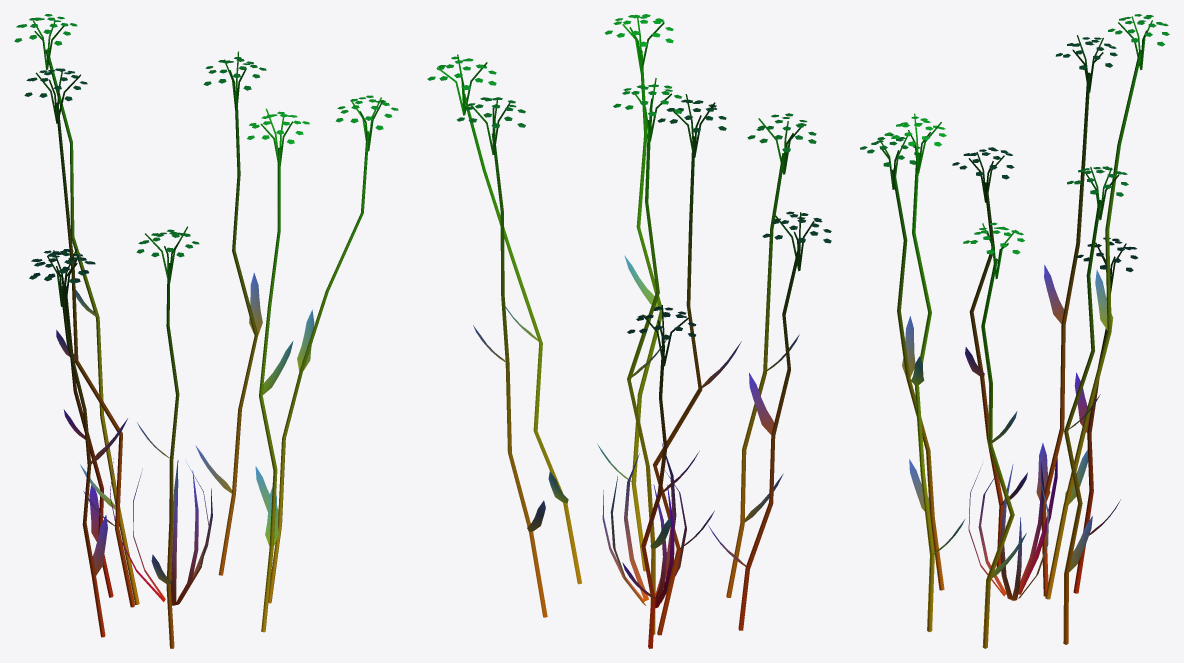
The model's file is SM_Flower_Yarrow_A_LOD1.fbx.
The picture shows the model from 3 angles, left to right: view 1: azimuth 30°, elevation 25°; view 2: azimuth 150°, elevation 25°; view 3: azimuth 270°, elevation 25°; orthographic projection. The views are drawn at different scales.
Visible parts, largest first — view 1: SM_Flower_Yarrow_A_LOD1; view 2: SM_Flower_Yarrow_A_LOD1; view 3: SM_Flower_Yarrow_A_LOD1.
Part boxes in pixels (x1,y1,x2,y2): SM_Flower_Yarrow_A_LOD1: (14, 14, 398, 648); SM_Flower_Yarrow_A_LOD1: (427, 14, 831, 648); SM_Flower_Yarrow_A_LOD1: (860, 14, 1169, 648).
Bounding box in the file's own units: 0.3955 × 0.5736 × 0.2884.
